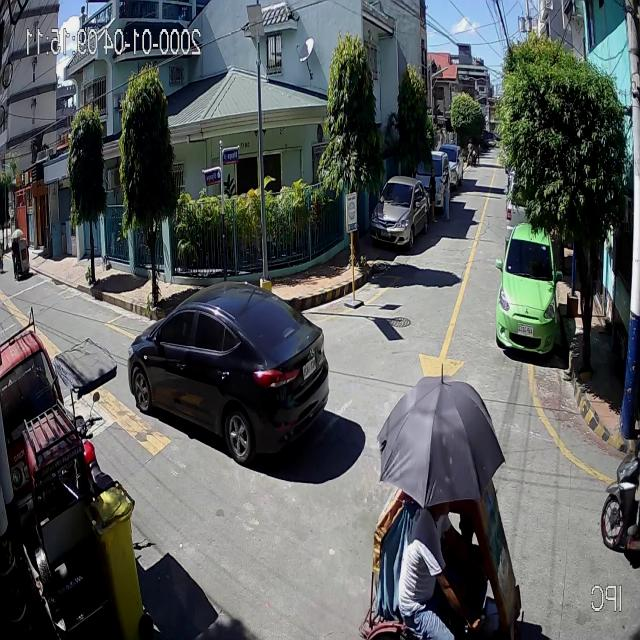standing: (439, 166, 452, 221), (427, 166, 438, 223)
walking: (476, 142, 482, 165)
